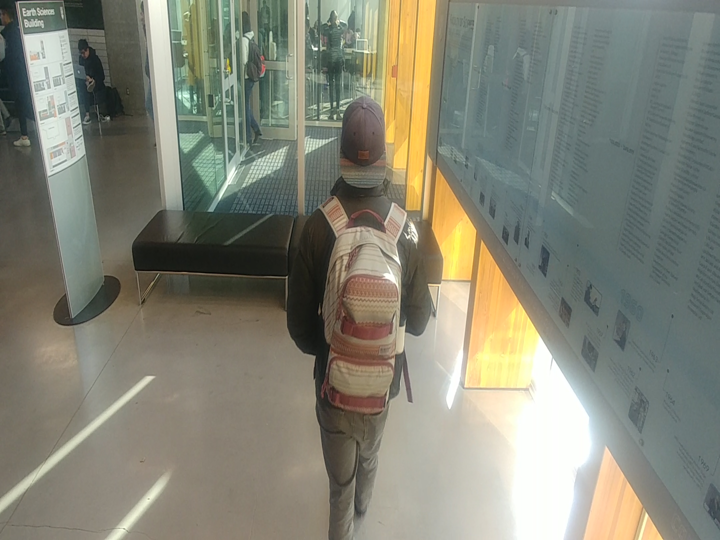face: (331, 89, 395, 200), (73, 33, 97, 62), (0, 2, 19, 28), (324, 5, 340, 31), (240, 5, 252, 38)
human: (279, 87, 438, 540), (0, 0, 39, 161), (316, 4, 355, 123), (69, 32, 115, 129), (240, 6, 270, 151)
